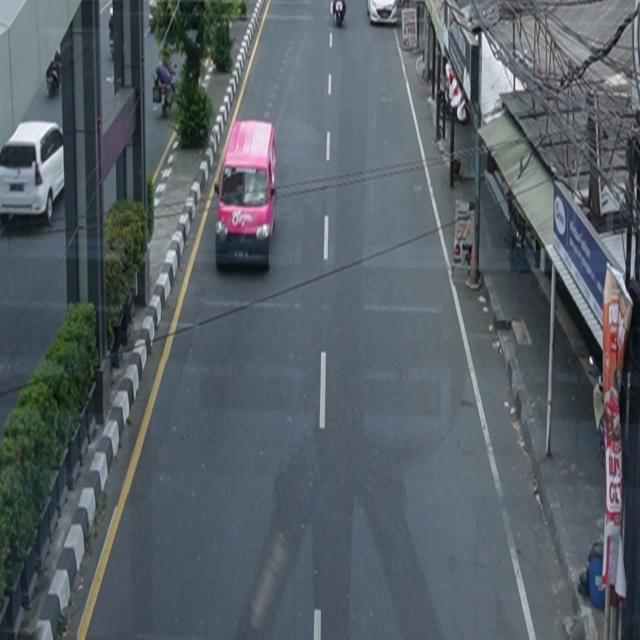bus: (215, 119, 278, 271)
car: (1, 120, 66, 227), (367, 1, 398, 26)
